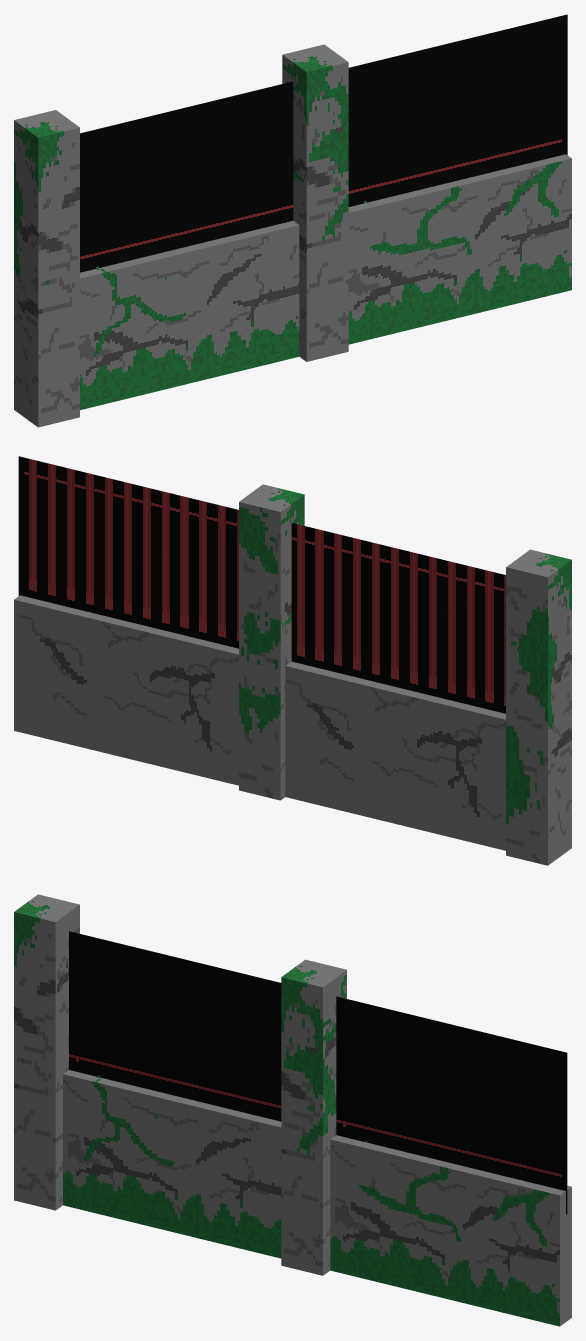
The model's file is Old wall.gltf.
3 renders of one model, top to bottom at view 1: azimuth 30°, elevation 25°; view 2: azimuth 150°, elevation 25°; view 3: azimuth 330°, elevation 25°, orthographic.
Parts seen in each view (by area): view 1: cube (×6); view 2: cube (×6); view 3: cube (×6).
Boxes of the visible parts, <box> form: cube (×6): <box>14,14,571,427</box>; cube (×6): <box>14,456,571,865</box>; cube (×6): <box>14,894,571,1326</box>.
Bounding box in the file's own units: 0.4043 × 0.2062 × 0.0312.
5 materials, 5 textured.
